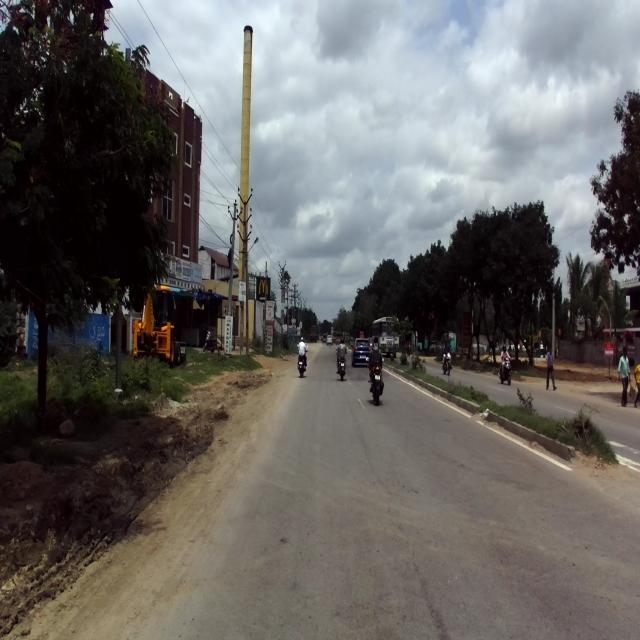motorcycle_Yamaha: (366, 348, 384, 405)
